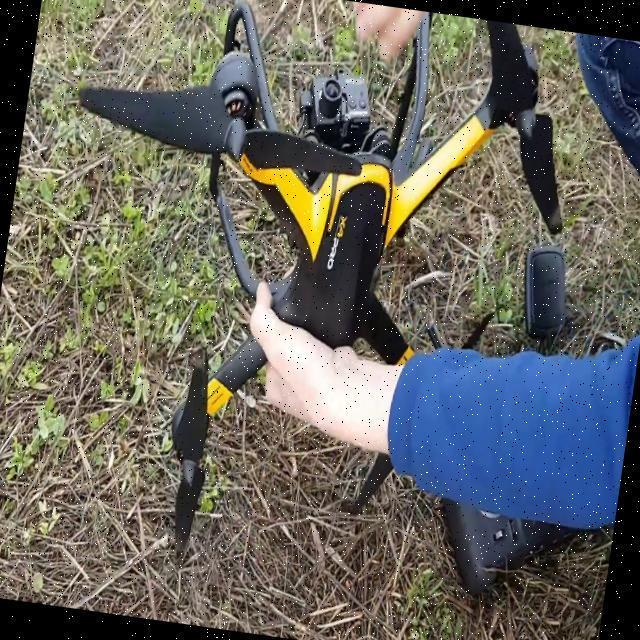Drons: (9, 0, 596, 606)
